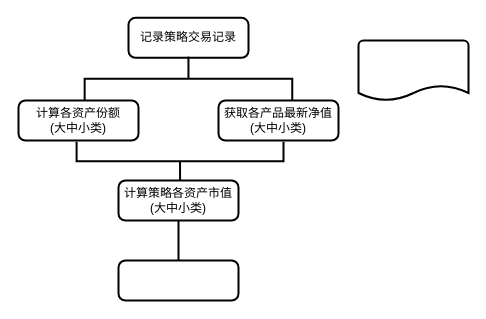
This 486x319 diagram has some shape labels left out. The box of each missing label's shape, as (x1, y1, x2, y2) in pixels:
1，获取场内外基金最新净值/价格: (357, 39, 469, 101)
生成资产配置图 (旭日图): (117, 259, 239, 301)
